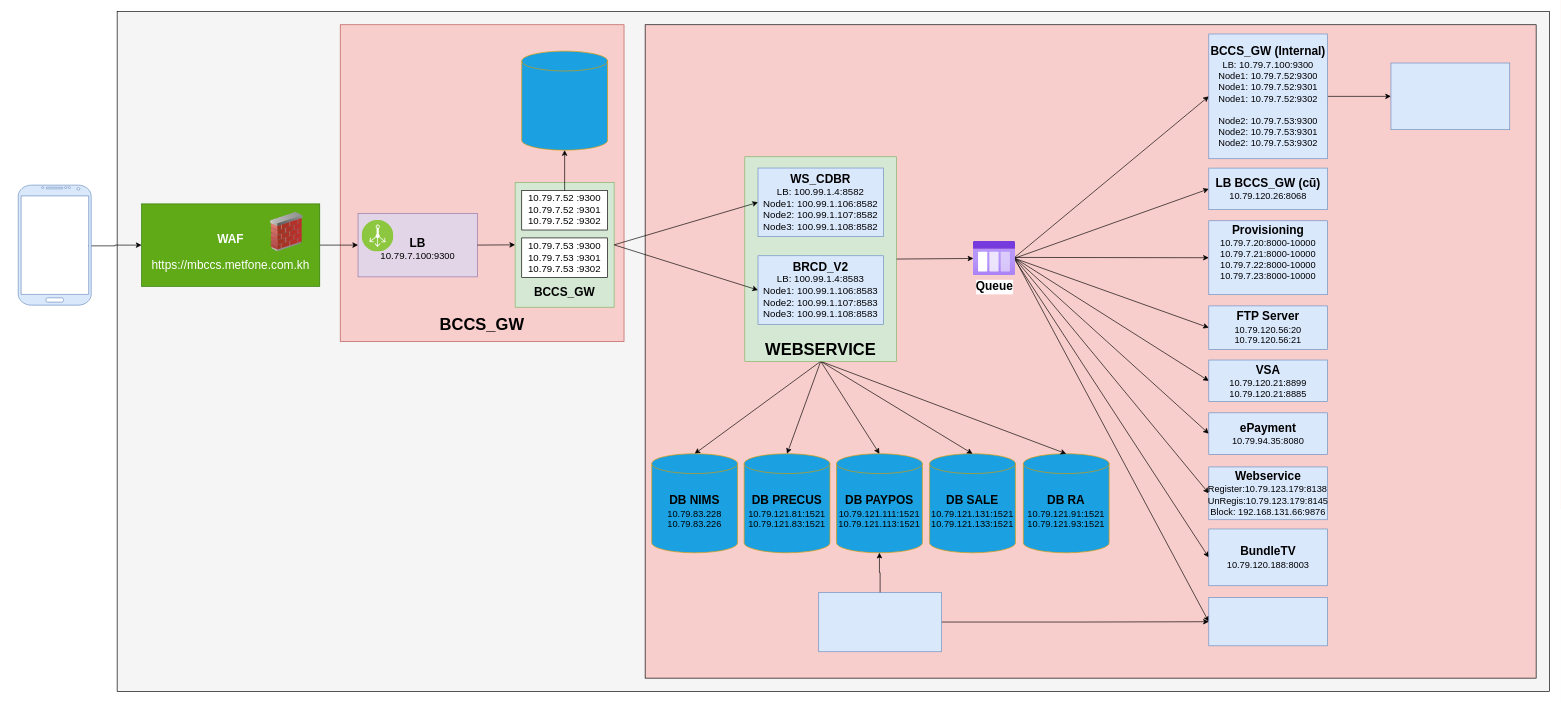
Some shapes in this 1561 by 703 pixel diagram are drawn without their labels. The shapes that lost their labels are listed below. From the top down, each one's centre as x and y in pixels, then its label:
At point (564, 100): "DB BCCSGW_GLOBAL 10.79.132.131:1521 10.79.132.133:1521".
At point (1450, 96): "TV360 10.79.32.202:80 10.79.32.207:80 10.79.32.202:443 10.79.32.207:443".
At point (54, 244): "mBCCS".
At point (879, 622): "ConfigIMTProcess Node1: 100.99.1.105 Node2: 100.99.1.106 Node3: 100.99.1.107".
At point (1268, 621): "IMT 10.79.9.144:80 10.79.9.145:80".
